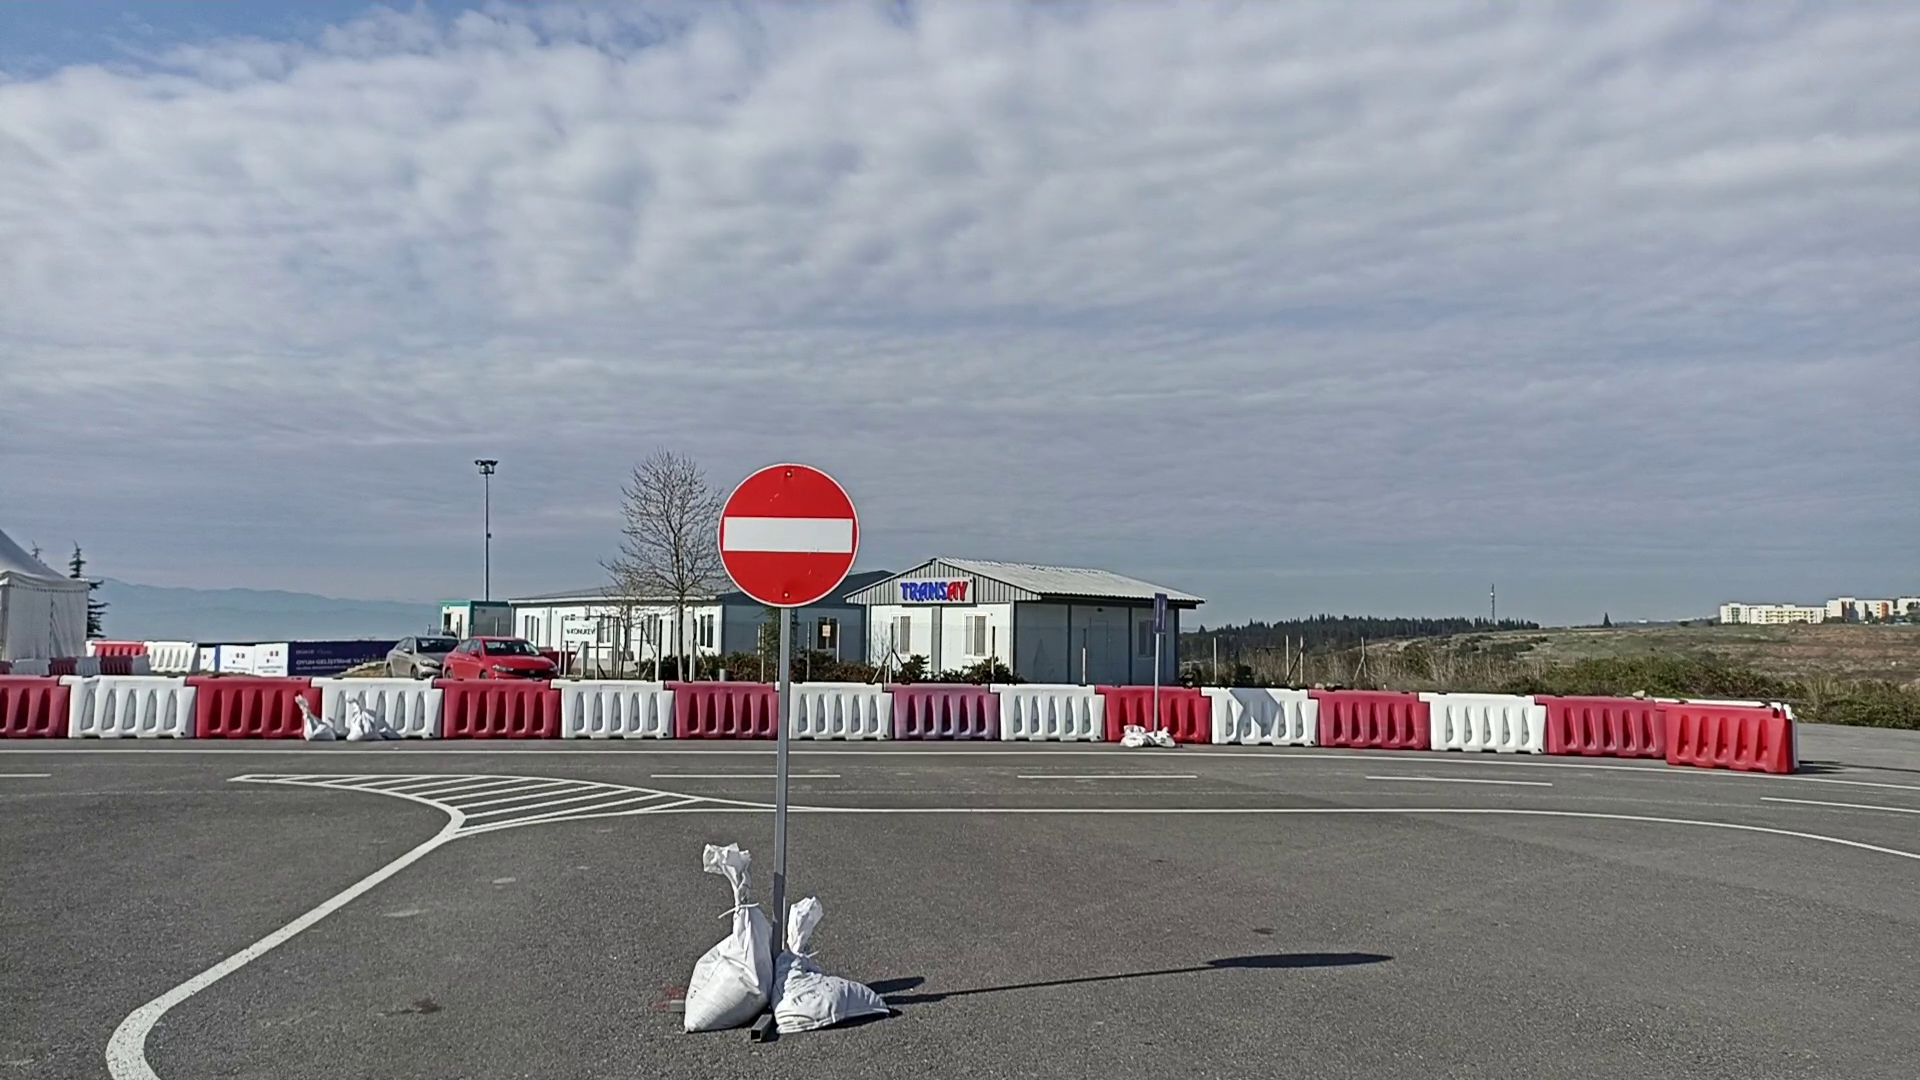noentryway: (713, 460, 860, 611)
